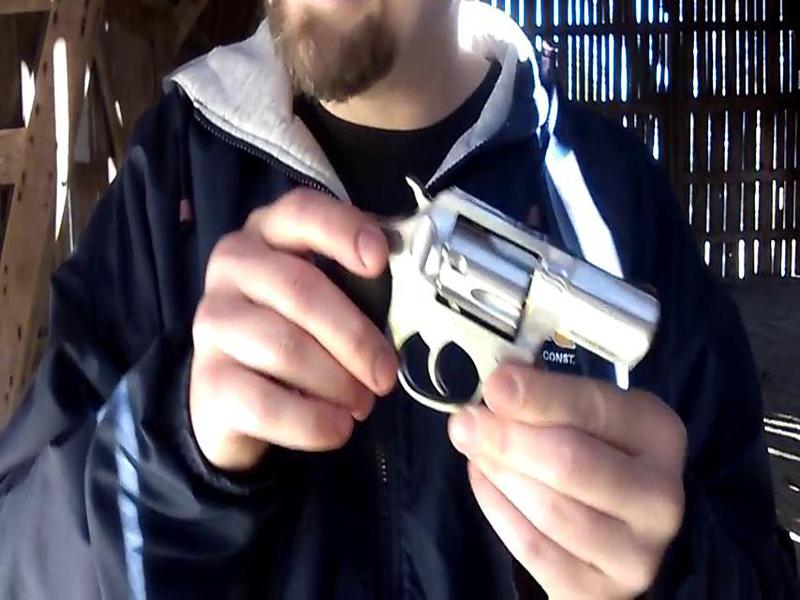Revolver: (337, 167, 675, 423)
